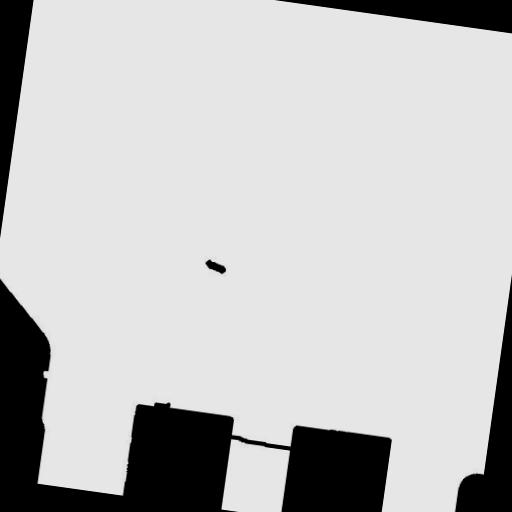copper: (196, 250, 234, 282)
mousebite: (34, 362, 59, 387)
short: (220, 426, 302, 459)
spur: (145, 392, 179, 419)
